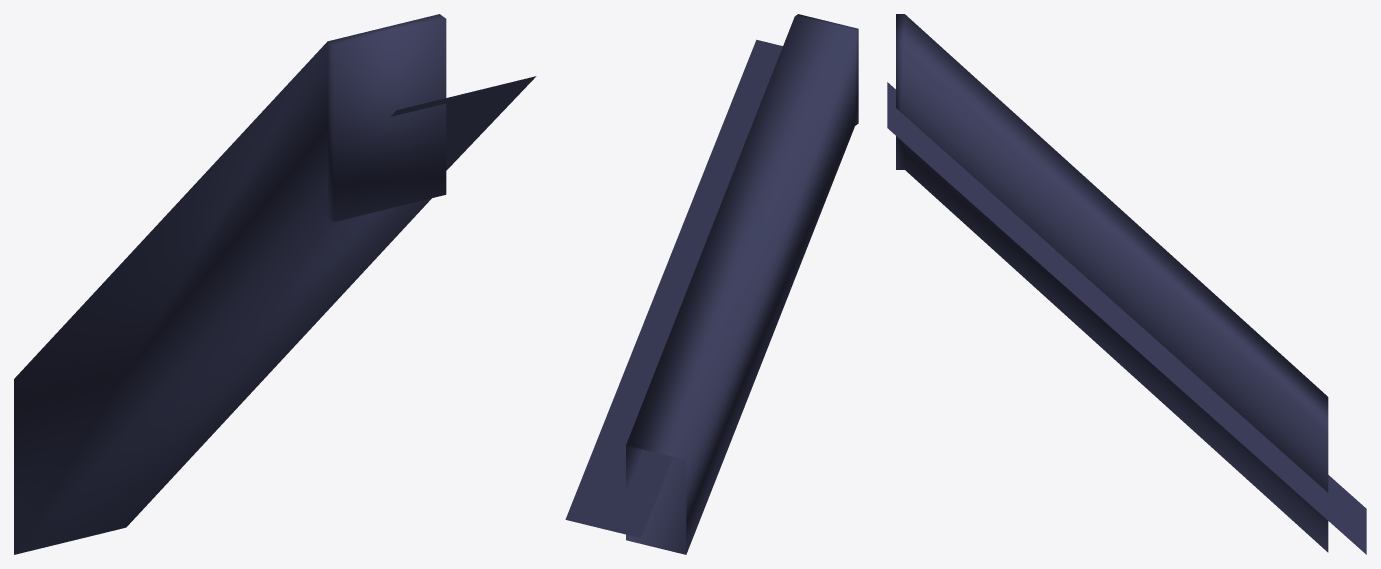
The model's file is Building_CorridorBack_1.fbx.
The picture shows the model from 3 angles, left to right: view 1: azimuth 30°, elevation 25°; view 2: azimuth 150°, elevation 25°; view 3: azimuth 270°, elevation 25°; orthographic projection. The views are drawn at different scales.
Visible parts, largest first — view 1: Cube.227, Plane.242; view 2: Cube.227, Plane.242; view 3: Cube.227, Plane.242.
Boxes of the visible parts, bbox=[...] form: Cube.227: bbox=[14, 14, 446, 554]; Plane.242: bbox=[390, 76, 536, 170]; Cube.227: bbox=[626, 14, 858, 554]; Plane.242: bbox=[565, 39, 782, 537]; Cube.227: bbox=[896, 14, 1328, 552]; Plane.242: bbox=[887, 82, 1366, 554].
Bounding box in the file's own units: 35 × 127 × 110.
